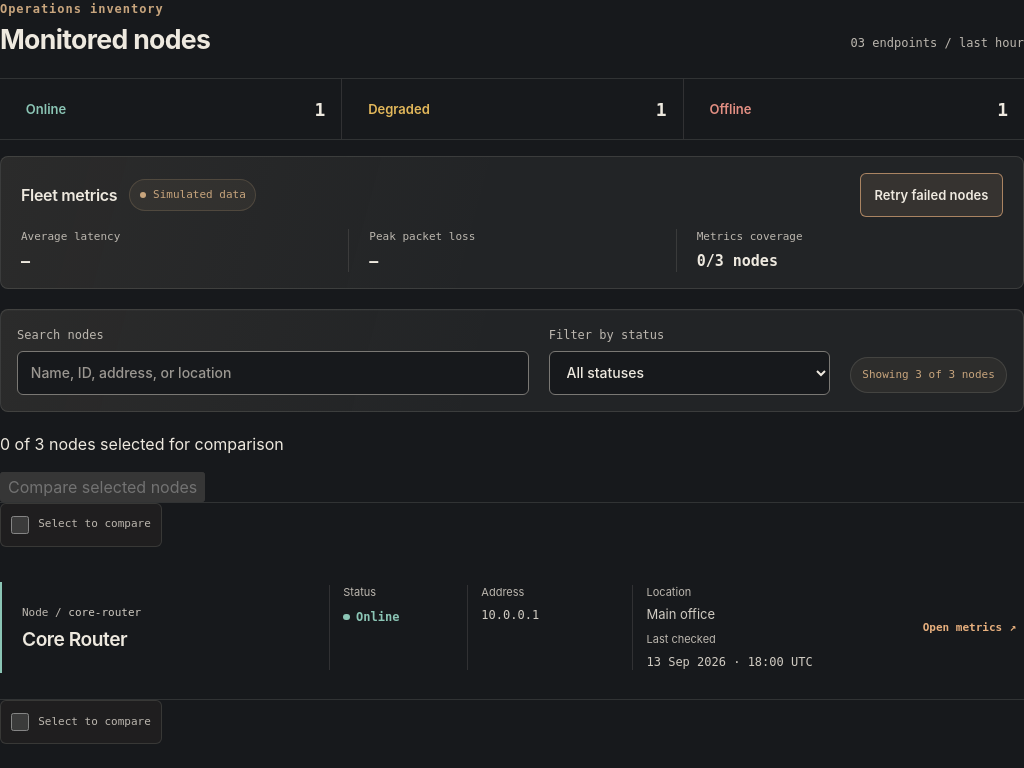
Test case: NetworkNodesPanel › allows selecting two or three nodes for comparison
Check: the text "0 of 3 nodes selected for comparison" is shown, box x1=0 y1=434 x2=284 y2=454
Click the checkbox named "Select Core Router for comparison".
click(20, 524)  # box x1=11 y1=516 x2=29 y2=534
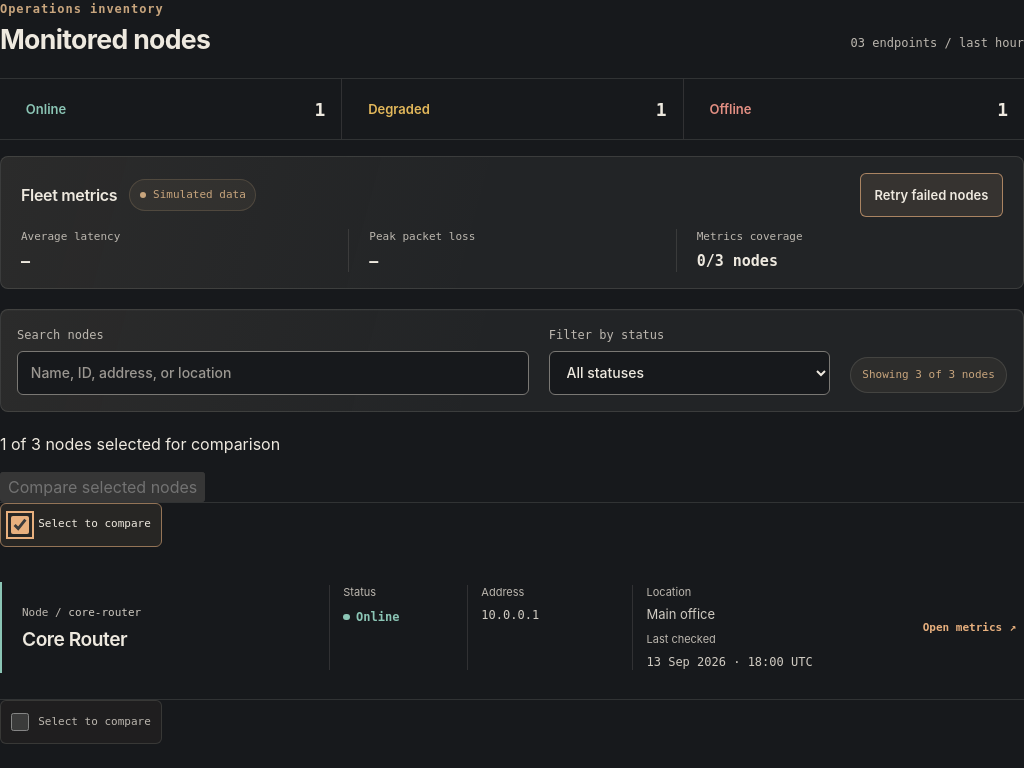
Click the checkbox named "Select Access Switch 01 for comparison".
click(20, 722)  # box x1=11 y1=713 x2=29 y2=731
(page scrolled)
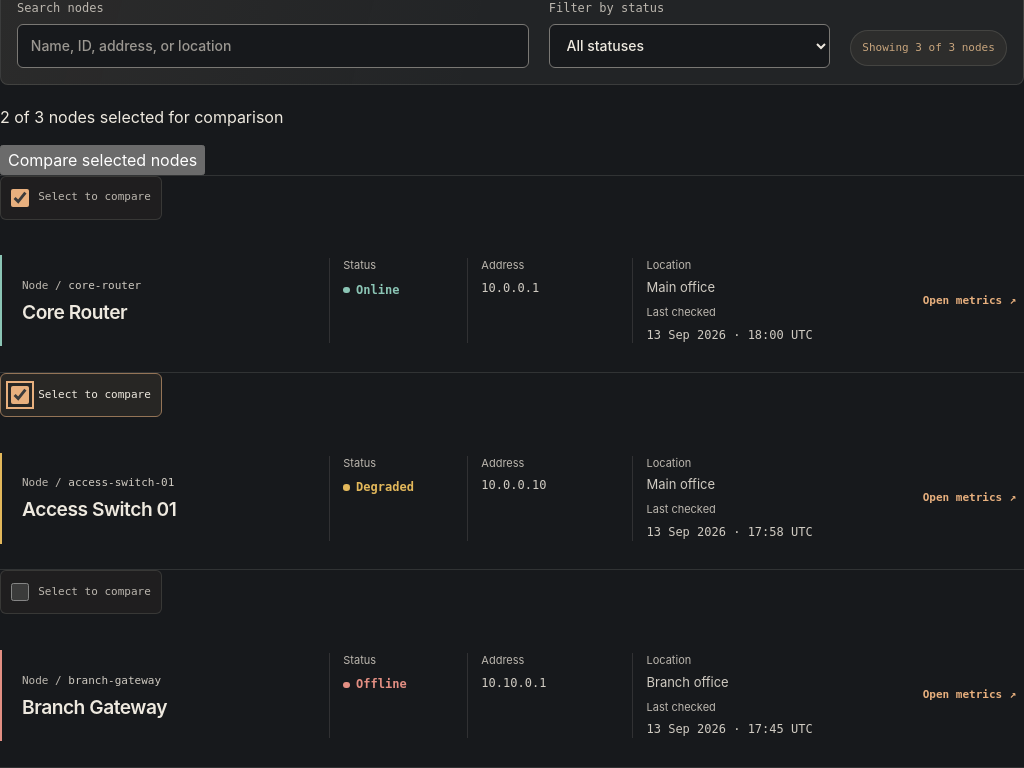
Check: the checkbox named "Select Core Router for comparison" is checked, box x1=11 y1=188 x2=29 y2=206
Check: the checkbox named "Select Access Switch 01 for comparison" is checked, box x1=11 y1=386 x2=29 y2=404
Check: the button "Compare selected nodes" is enabled, box x1=0 y1=144 x2=205 y2=174
Click the checkbox named "Select Branch Gateway for comparison".
click(20, 592)  # box x1=11 y1=583 x2=29 y2=601
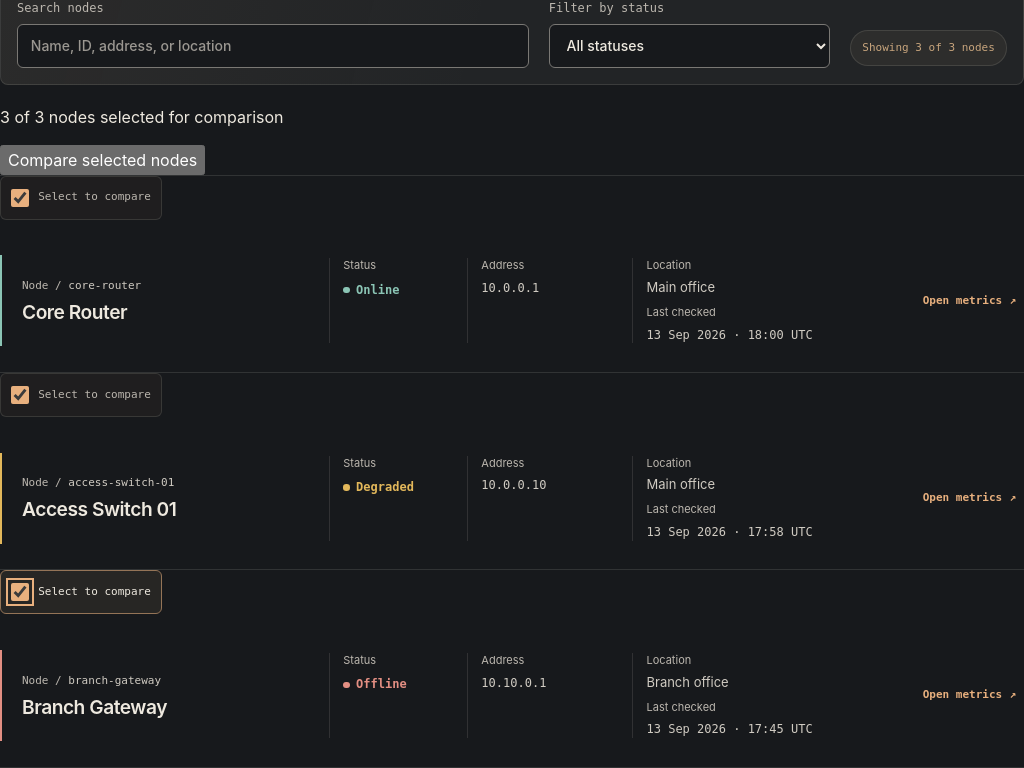
Check: the checkbox named "Select Branch Gateway for comparison" is checked, box x1=11 y1=583 x2=29 y2=601
Check: the button "Compare selected nodes" is enabled, box x1=0 y1=144 x2=205 y2=174
Check: the text "3 of 3 nodes selected for comparison" is shown, box x1=0 y1=106 x2=284 y2=126
